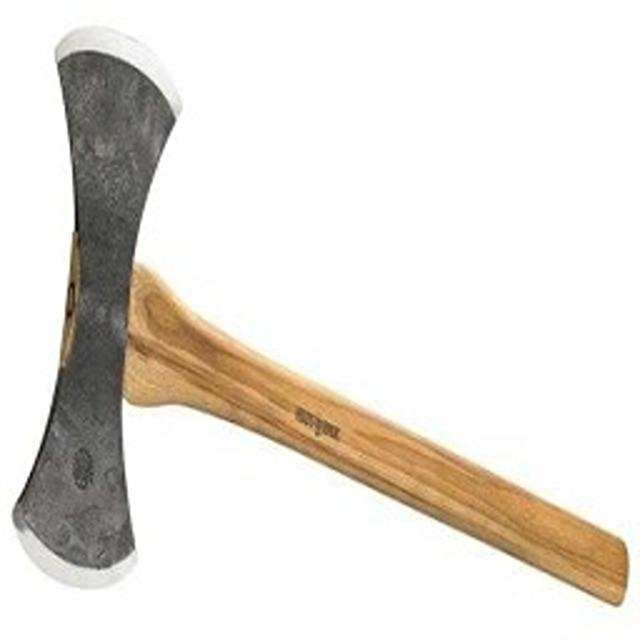ax: (10, 17, 635, 617)
